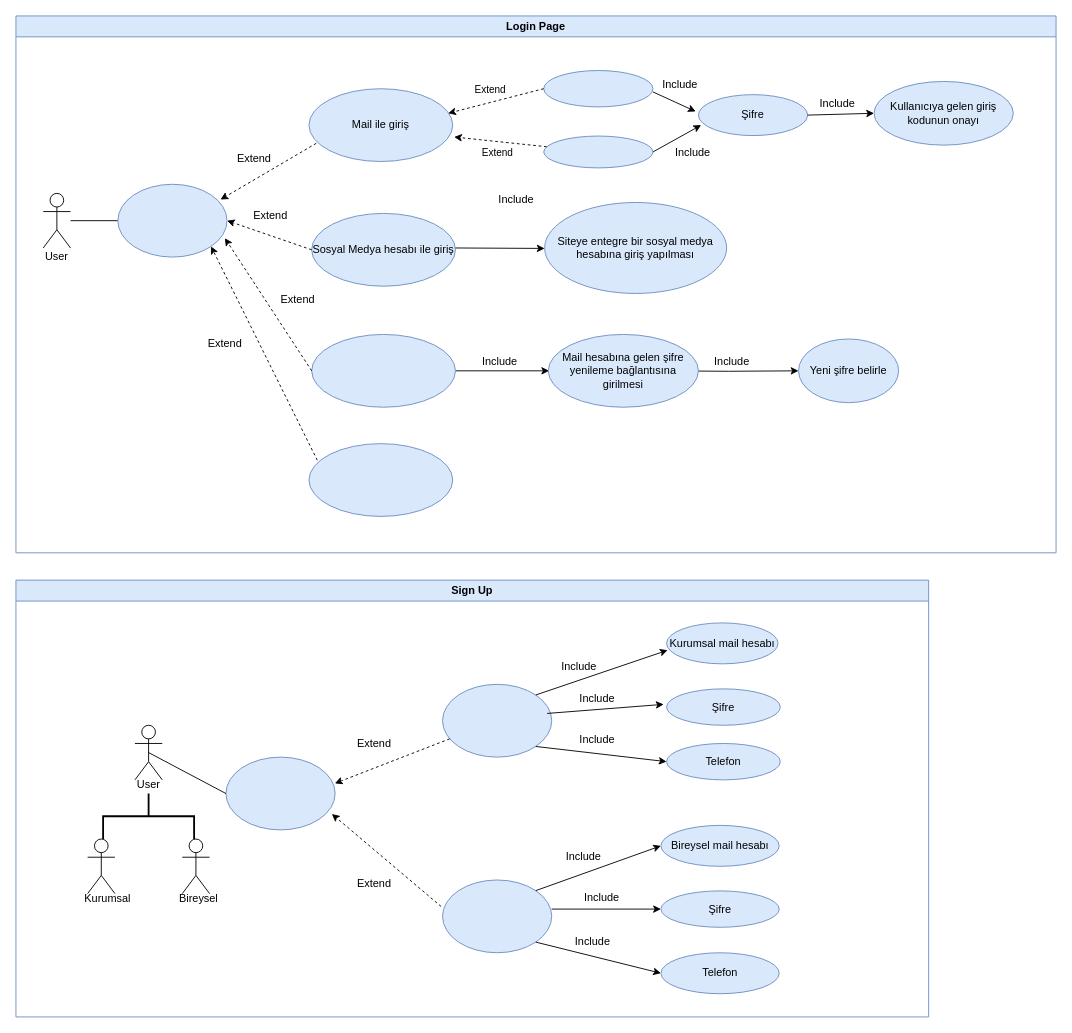
This 1072x1033 diagram has some shape labels left out. Each missing label, with the centre of its shape:
Bireysel Kayıt: the point at 497,916
Giriş Sayfası: the point at 172,220
Kayıt Sayfası: the point at 280,793
Kurumsal Kayıt: the point at 497,720
Mail Adresi: the point at 598,88
Misafir Olarak Kullan: the point at 380,479
Telefon Numarası: the point at 598,151
Şifremi Unuttum: the point at 383,370
